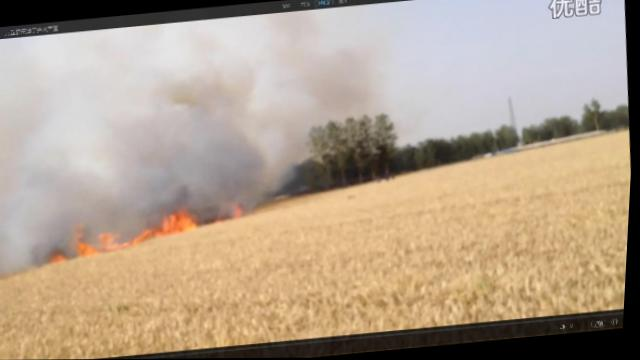fire: (154, 208, 202, 235), (76, 235, 98, 256), (99, 231, 122, 251), (136, 228, 157, 241), (47, 250, 69, 261), (118, 238, 138, 246)
